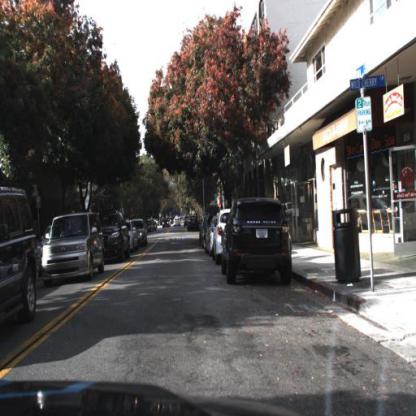car: (218, 193, 297, 289), (1, 184, 41, 336), (39, 207, 106, 288), (102, 213, 131, 270), (99, 212, 132, 259), (213, 209, 235, 269), (125, 219, 138, 256)
